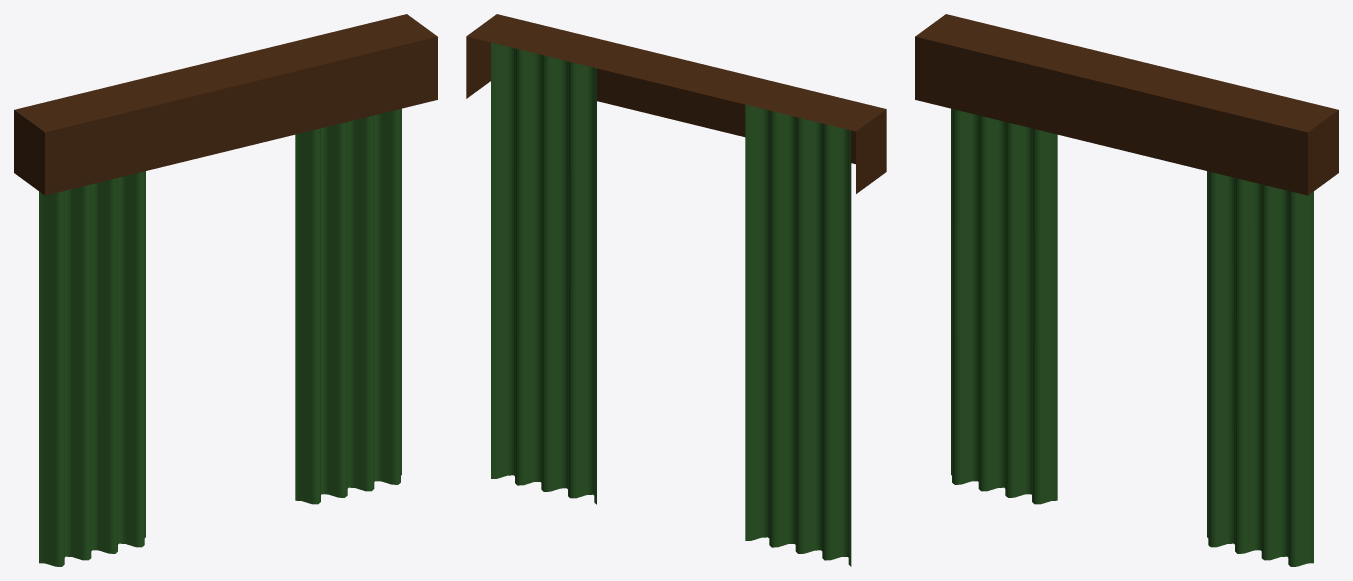
File: HQ_SideCurtain.fbx
3 views of the same model, side by side, from view 1: azimuth 30°, elevation 25°; view 2: azimuth 150°, elevation 25°; view 3: azimuth 330°, elevation 25° (orthographic).
Parts seen in each view (by area): view 1: HQ_LeftCurtain; view 2: HQ_LeftCurtain; view 3: HQ_LeftCurtain.
Boxes of the visible parts, box(x1,y1,x2,y2) form: HQ_LeftCurtain: box(14, 14, 437, 566); HQ_LeftCurtain: box(466, 14, 886, 566); HQ_LeftCurtain: box(915, 14, 1338, 566).
Bounding box in the file's own units: 10.59 × 11.58 × 1.44.
